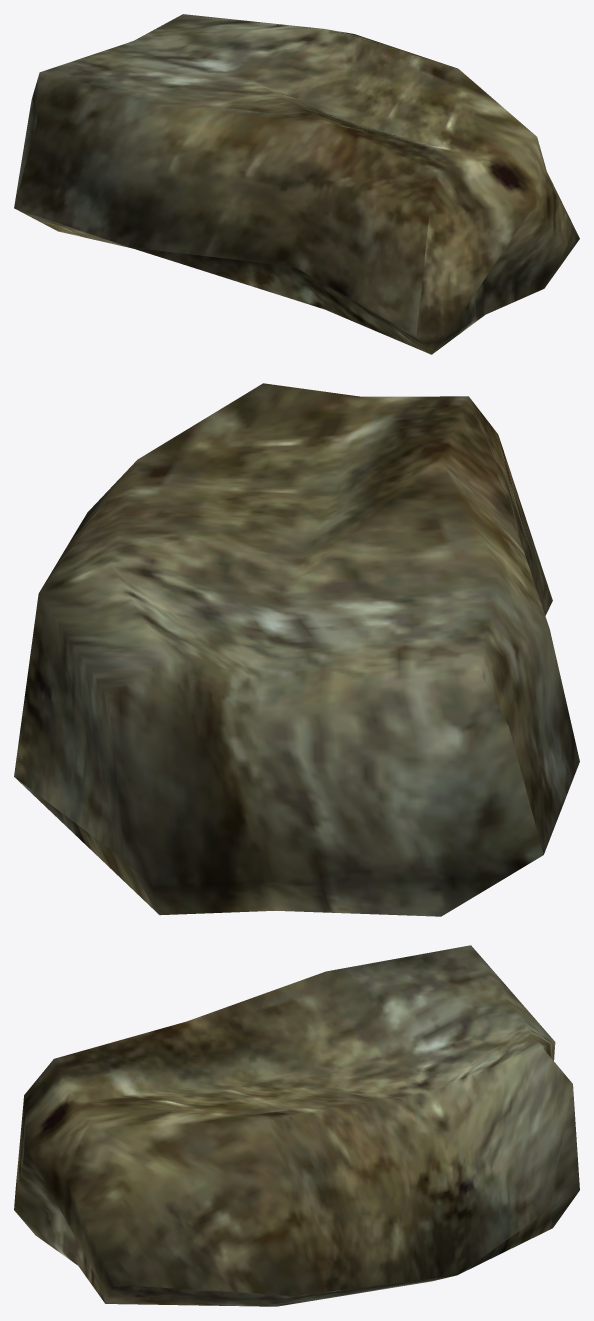
Rendered from rock_round03.dae.
3 renders of one model, top to bottom at view 1: azimuth 30°, elevation 25°; view 2: azimuth 150°, elevation 25°; view 3: azimuth 270°, elevation 25°, orthographic. The views are drawn at different scales.
Visible parts, largest first — view 1: pCube3; view 2: pCube3; view 3: pCube3.
Part boxes in pixels (x1=…): pCube3: x1=14, y1=14, x2=579, y2=354; pCube3: x1=14, y1=383, x2=579, y2=916; pCube3: x1=14, y1=945, x2=579, y2=1306.
Size of the model in its own units: 0.4399 by 0.1951 by 0.4913.
